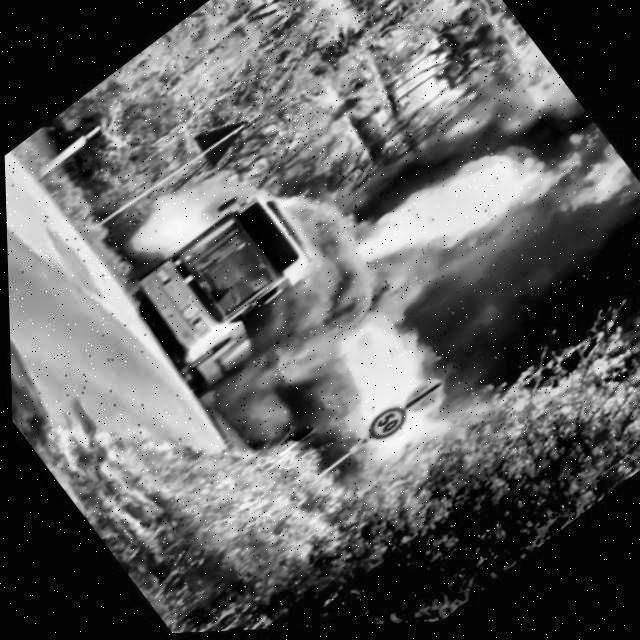Fire: (346, 76, 640, 344), (285, 301, 477, 505), (112, 138, 277, 290)
Smoke: (397, 179, 640, 434), (241, 199, 412, 365)
